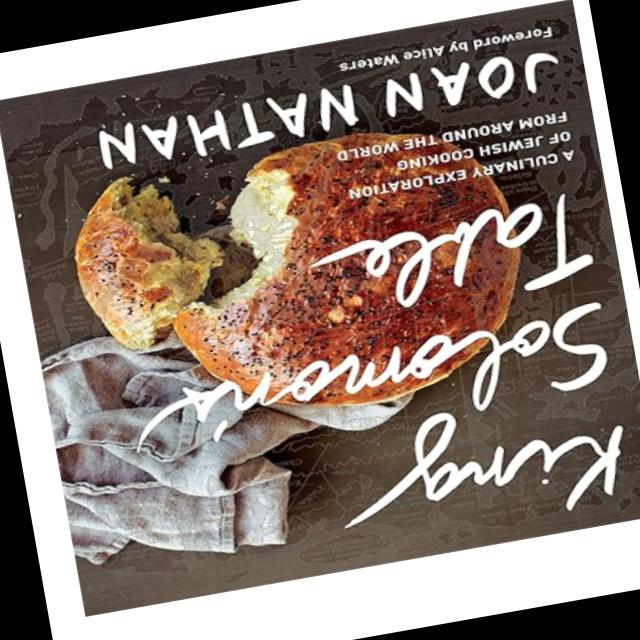titles-or-authors: (91, 180, 640, 586), (80, 32, 572, 186)
